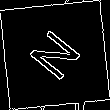N_SE: (23, 24, 87, 86)
